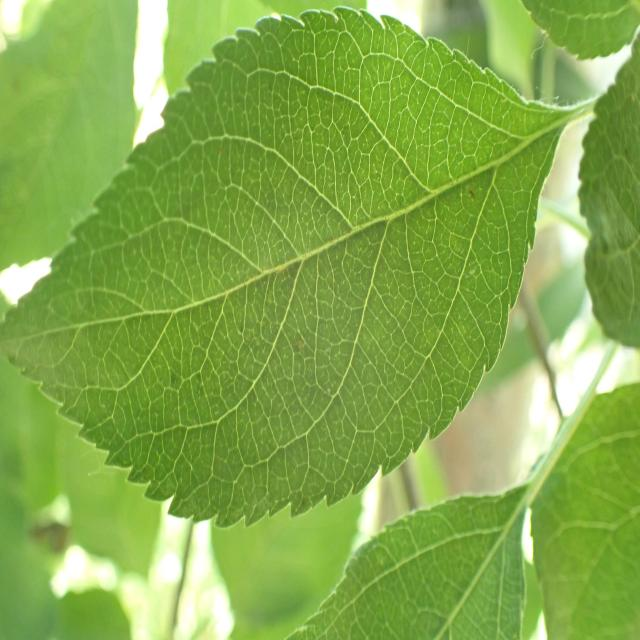healthy: (1, 7, 570, 528), (284, 482, 530, 640), (0, 0, 138, 275), (529, 380, 640, 640), (577, 28, 640, 349), (518, 0, 640, 60)
